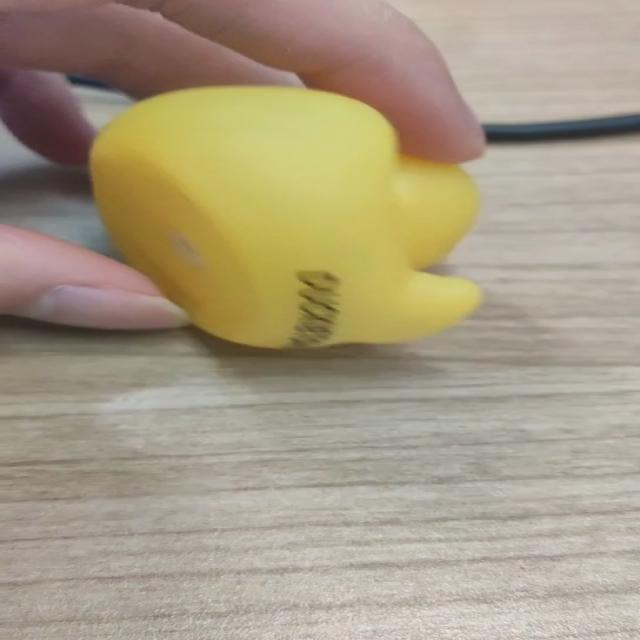rubber-duck: (89, 86, 480, 346)
